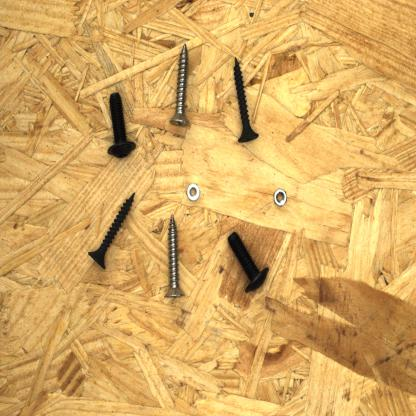screw: (86, 189, 140, 271), (224, 228, 272, 296), (232, 54, 261, 146), (166, 40, 192, 131), (162, 211, 188, 301), (106, 89, 138, 161)
